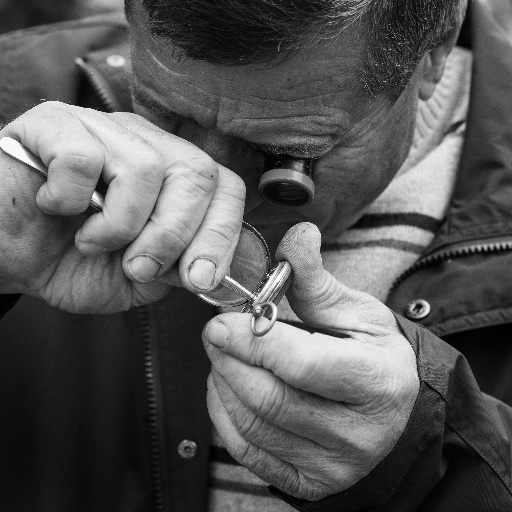hand: (0, 85, 269, 323), (200, 220, 420, 506)
